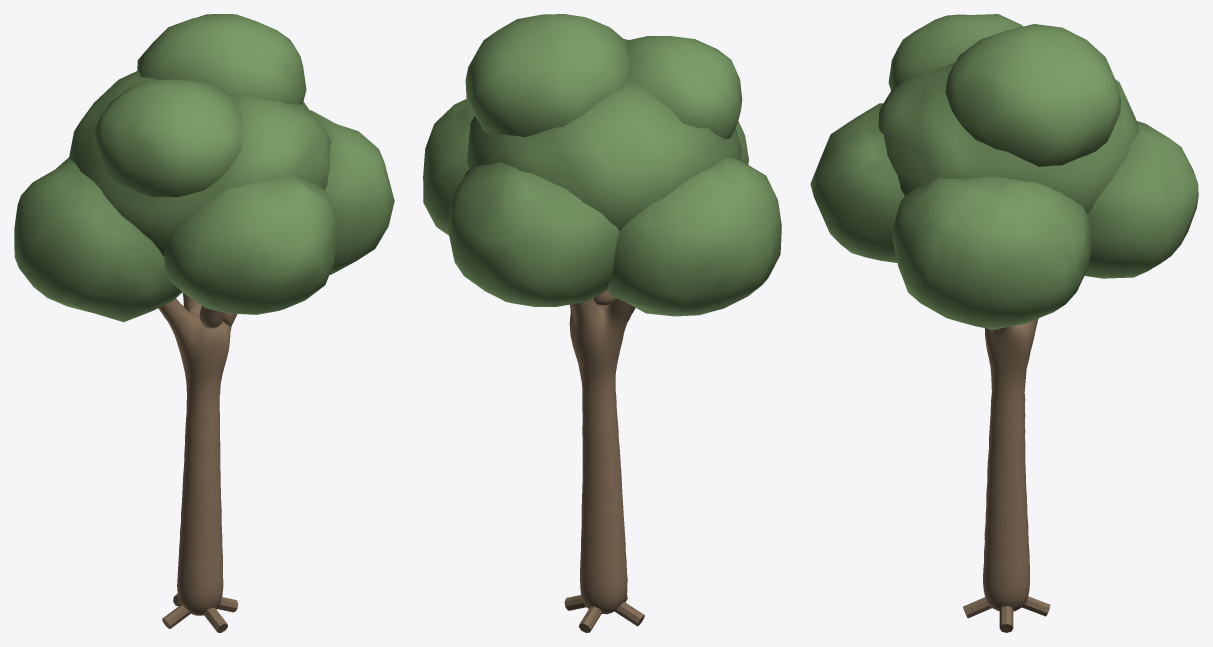
Rendered from obj_kit_linden.glb.
3 views of the same model, side by side, from view 1: azimuth 30°, elevation 25°; view 2: azimuth 150°, elevation 25°; view 3: azimuth 270°, elevation 25° (orthographic). The views are drawn at different scales.
Parts seen in each view (by area): view 1: Icosphere.004, Icosphere.001, Icosphere.006, Icosphere, trunk, Icosphere.005, Icosphere.002; view 2: Icosphere.001, Icosphere, Icosphere.003, Icosphere.005, trunk, Icosphere.006, Icosphere.002; view 3: Icosphere.002, Icosphere.005, Icosphere, Icosphere.003, trunk, Icosphere.004, Icosphere.006.
Boxes of the visible parts, left/top/right/bottom form: Icosphere.004: left=164, top=174, right=336, bottom=314; Icosphere.001: left=14, top=157, right=182, bottom=322; Icosphere.006: left=94, top=79, right=242, bottom=197; Icosphere: left=69, top=70, right=331, bottom=255; trunk: left=158, top=292, right=237, bottom=615; Icosphere.005: left=137, top=14, right=306, bottom=104; Icosphere.002: left=310, top=110, right=394, bottom=274; Icosphere.001: left=607, top=157, right=781, bottom=316; Icosphere: left=467, top=39, right=741, bottom=230; Icosphere.003: left=448, top=162, right=618, bottom=306; Icosphere.005: left=465, top=14, right=629, bottom=137; trunk: left=569, top=290, right=635, bottom=614; Icosphere.006: left=626, top=36, right=742, bottom=139; Icosphere.002: left=423, top=99, right=474, bottom=235; Icosphere.002: left=893, top=176, right=1092, bottom=329; Icosphere.005: left=945, top=24, right=1120, bottom=166; Icosphere: left=878, top=62, right=1139, bottom=214; Icosphere.003: left=1084, top=121, right=1198, bottom=278; trunk: left=983, top=318, right=1038, bottom=611; Icosphere.004: left=810, top=103, right=904, bottom=262; Icosphere.006: left=888, top=14, right=1022, bottom=90.
Bounding box in the file's own units: 2.95 × 4.82 × 2.83.
